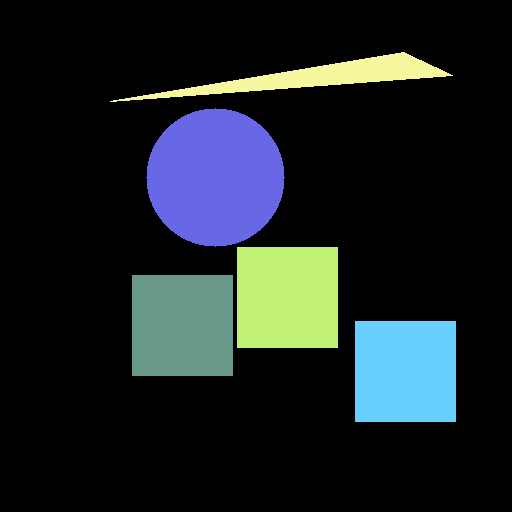circle: (146, 108, 284, 246)
square: (355, 321, 455, 421), (132, 275, 232, 375), (237, 247, 337, 347)
triangle: (110, 52, 452, 101)
